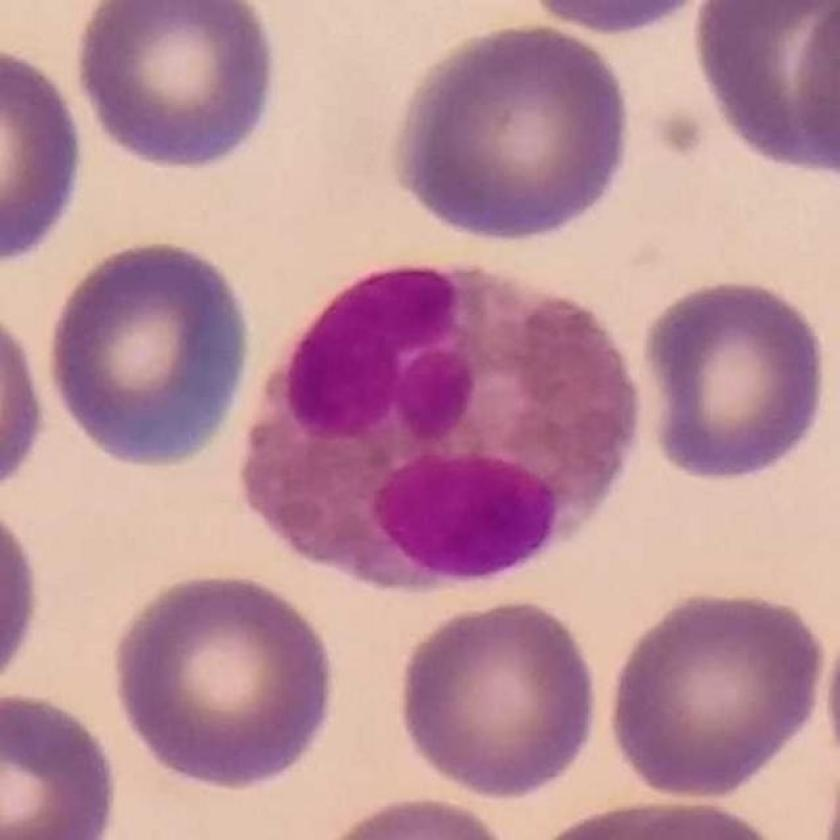eosinophil: (240, 259, 641, 593)
